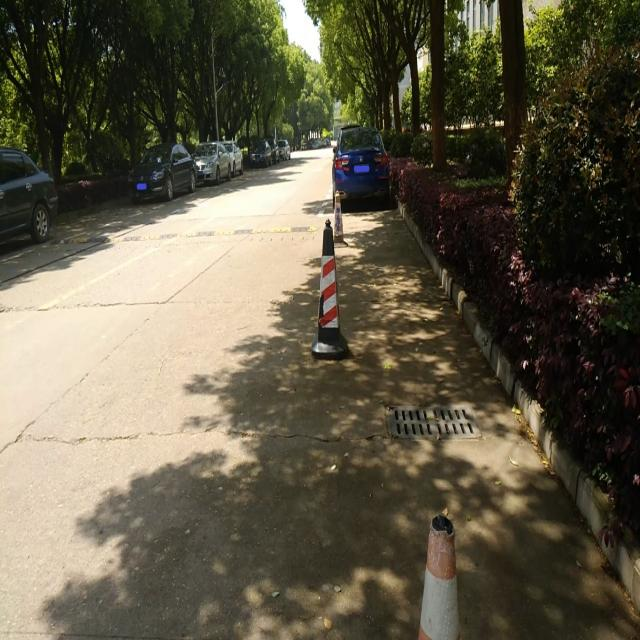car: (2, 147, 58, 240), (331, 124, 390, 208), (128, 142, 198, 200), (193, 140, 230, 185), (224, 142, 243, 176), (250, 140, 272, 166), (276, 138, 291, 161)
pole: (211, 38, 220, 139)
reflective_cone: (416, 513, 463, 637), (313, 218, 346, 356), (332, 189, 348, 247)
